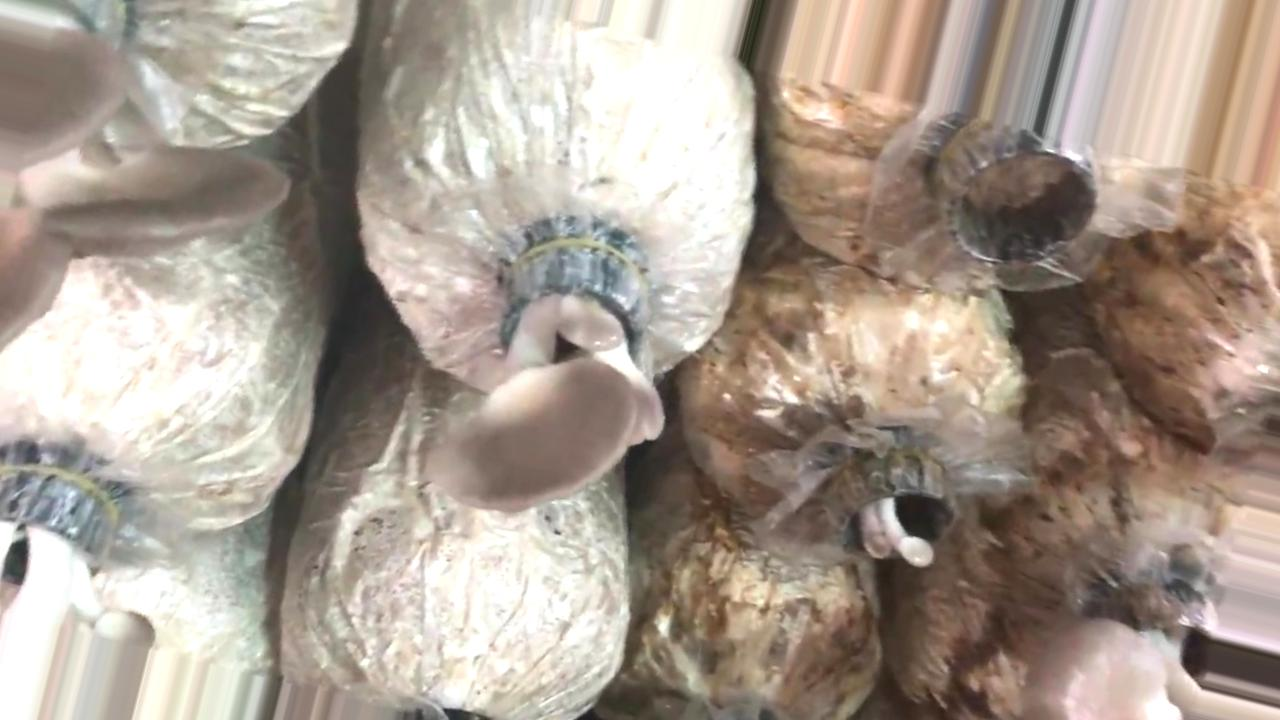nam: (1, 1, 288, 353), (435, 245, 668, 513), (838, 452, 952, 568)
